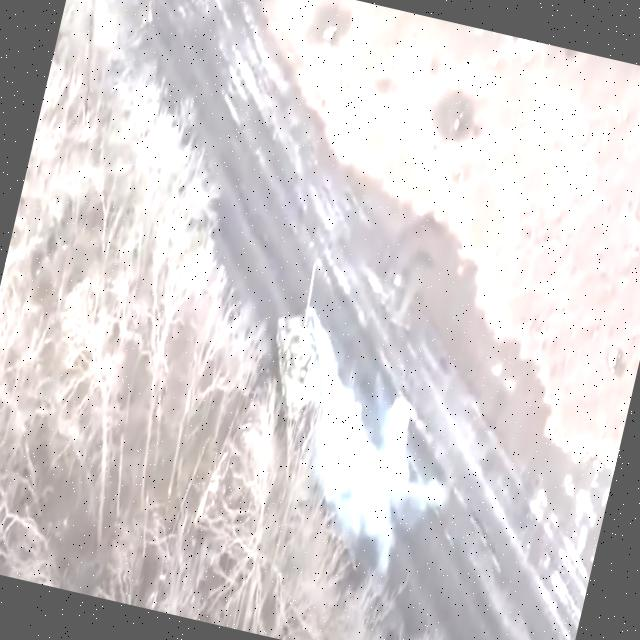MBT: (254, 255, 355, 440)
